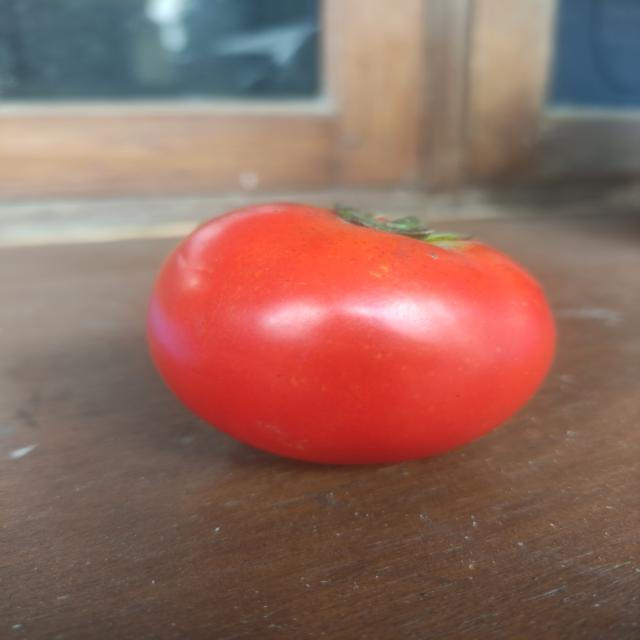ripe tomato: (144, 204, 558, 470)
